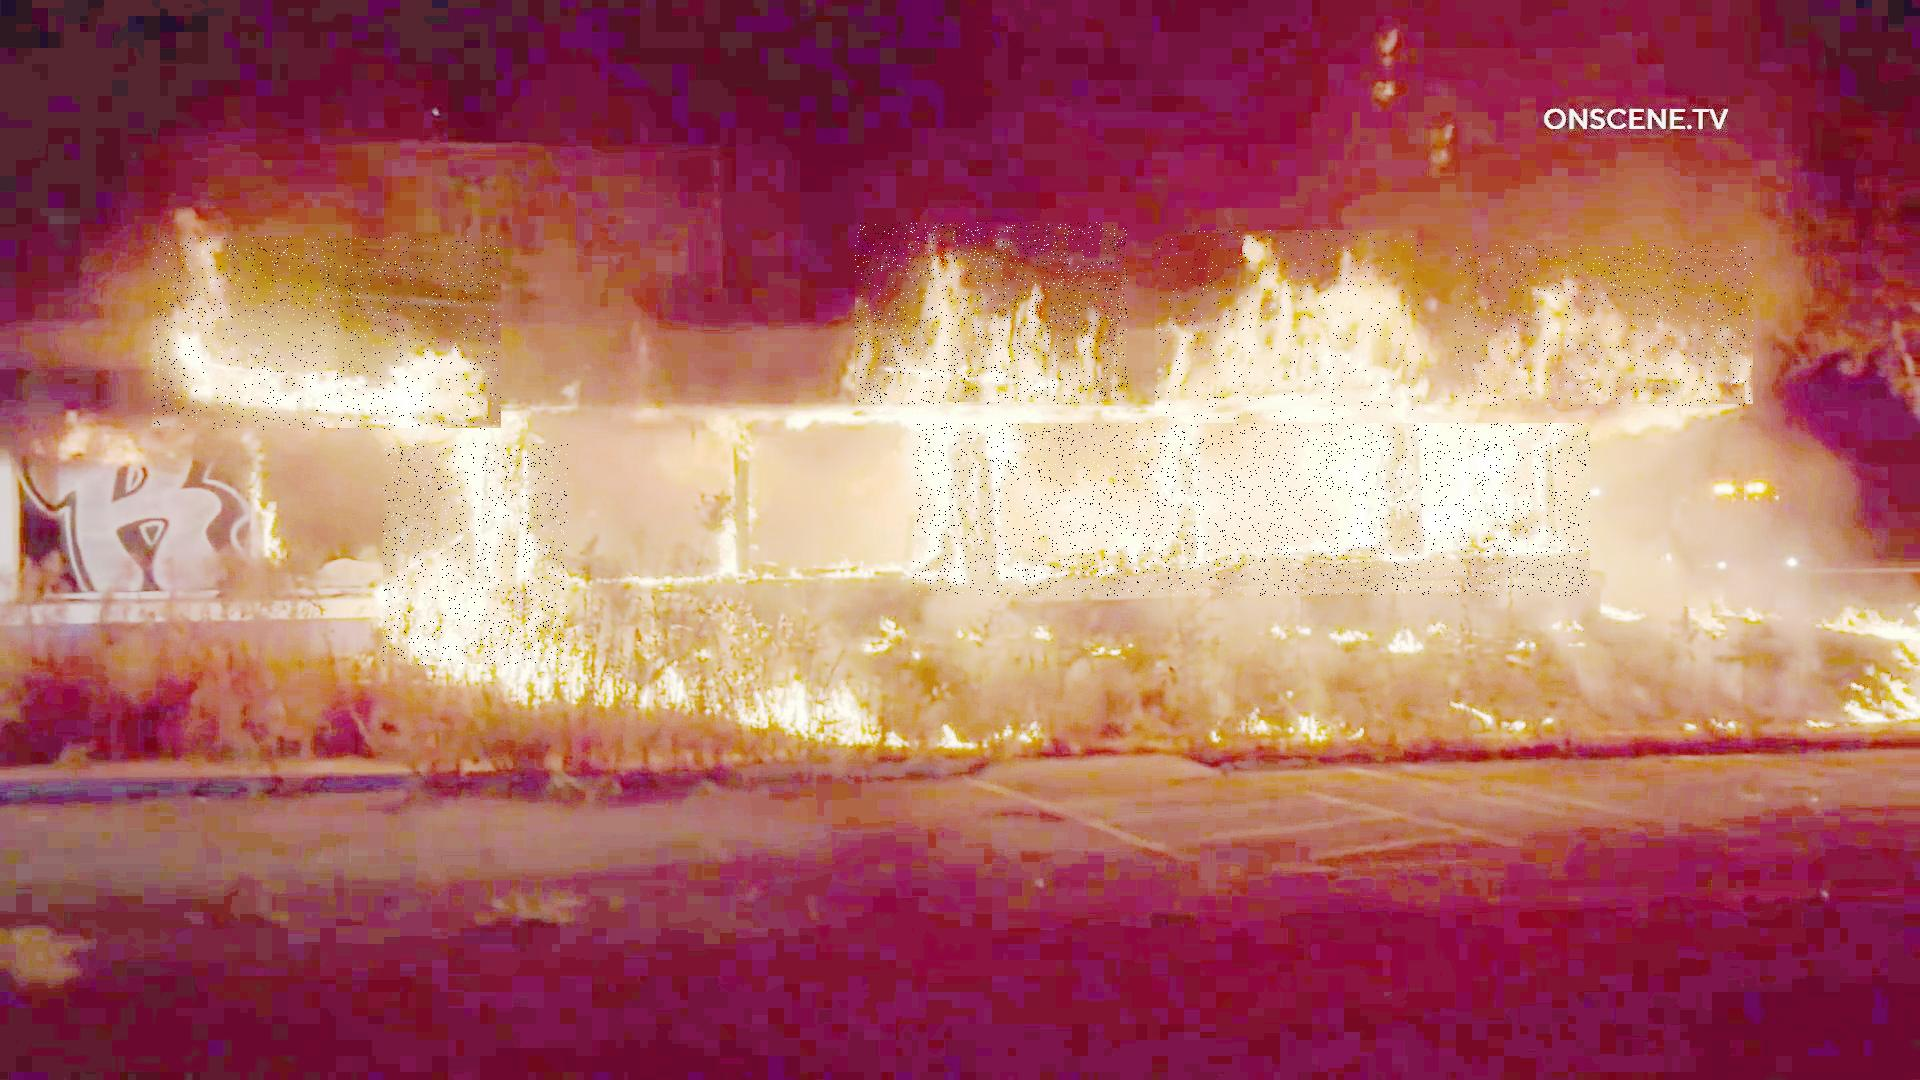fire: (914, 423, 1590, 596), (153, 237, 501, 431), (1155, 231, 1423, 421), (856, 223, 1129, 405), (1455, 245, 1753, 406), (384, 443, 568, 666)
